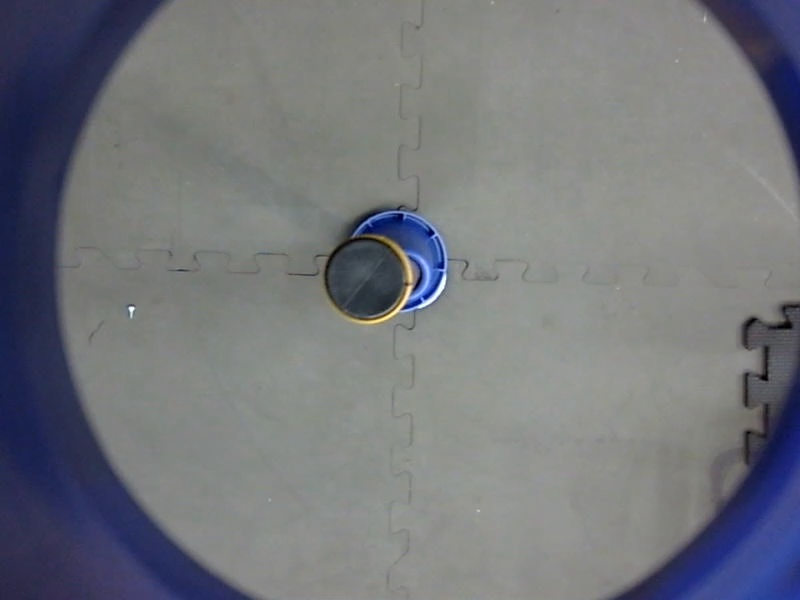tip: (316, 228, 416, 329)
